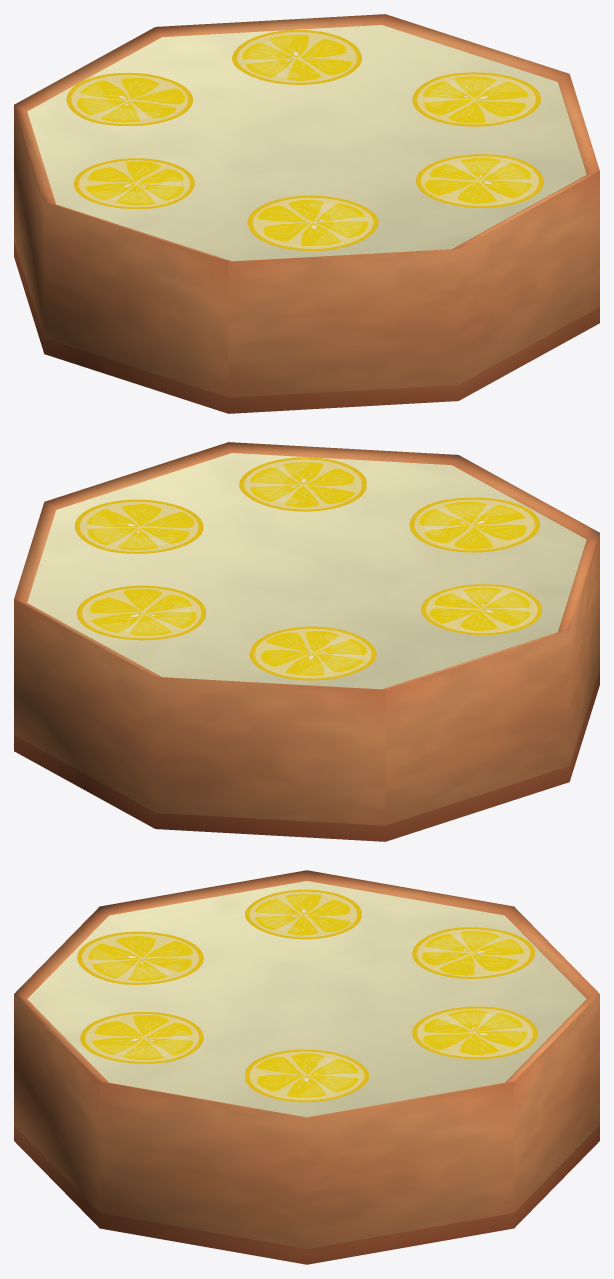
File: Cheesecake_B.FBX
The picture shows the model from 3 angles, top to bottom: view 1: azimuth 30°, elevation 25°; view 2: azimuth 150°, elevation 25°; view 3: azimuth 270°, elevation 25°; orthographic projection. The views are drawn at different scales.
Visible parts, largest first — view 1: Cheesecake; view 2: Cheesecake; view 3: Cheesecake.
Boxes of the visible parts, bbox=[...] form: Cheesecake: bbox=[14, 14, 599, 413]; Cheesecake: bbox=[14, 442, 599, 841]; Cheesecake: bbox=[14, 870, 599, 1264].
Size of the model in its own units: 85.22 by 23.58 by 85.22.
